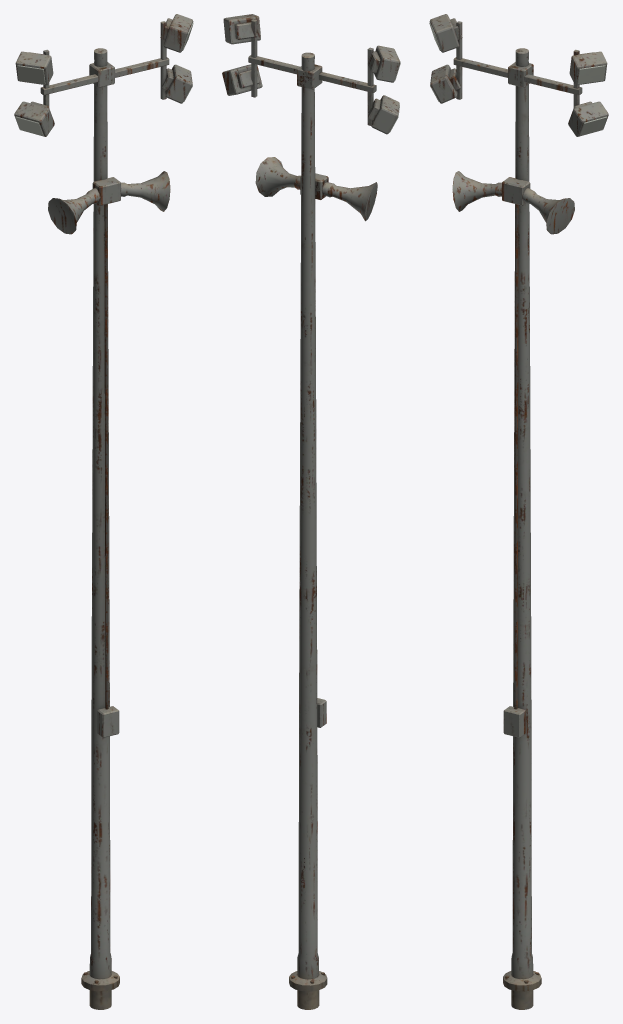
File: floodlight_pole.glb
3 renders of one model, left to right at view 1: azimuth 30°, elevation 25°; view 2: azimuth 150°, elevation 25°; view 3: azimuth 330°, elevation 25°, orthographic.
Visible parts, largest first — view 1: floodlight_pole; view 2: floodlight_pole; view 3: floodlight_pole.
Part boxes in pixels (left/top/right/bottom): floodlight_pole: left=14, top=14, right=193, bottom=1009; floodlight_pole: left=222, top=14, right=400, bottom=1009; floodlight_pole: left=429, top=14, right=608, bottom=1009.
Size of the model in its own units: 2.12 by 11.1 by 0.6599.
1 material, 1 textured.
